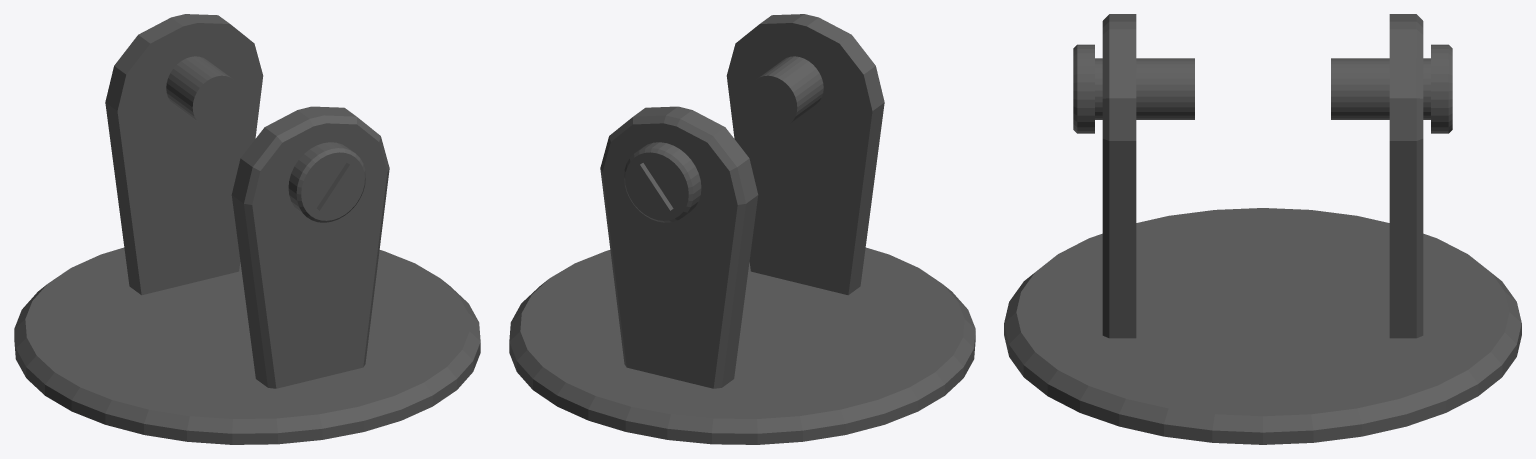
Rendered from CanonBase.obj.
3 renders of one model, left to right at view 1: azimuth 30°, elevation 25°; view 2: azimuth 150°, elevation 25°; view 3: azimuth 270°, elevation 25°, orthographic. The views are drawn at different scales.
Parts seen in each view (by area): view 1: CanonBase; view 2: CanonBase; view 3: CanonBase.
Part boxes in pixels (x1,y1,x2,y2): CanonBase: (14, 14, 480, 444); CanonBase: (509, 14, 975, 444); CanonBase: (1004, 14, 1521, 444).
Size of the model in its own units: 2 by 1.32 by 2.
1 material, 1 textured.
